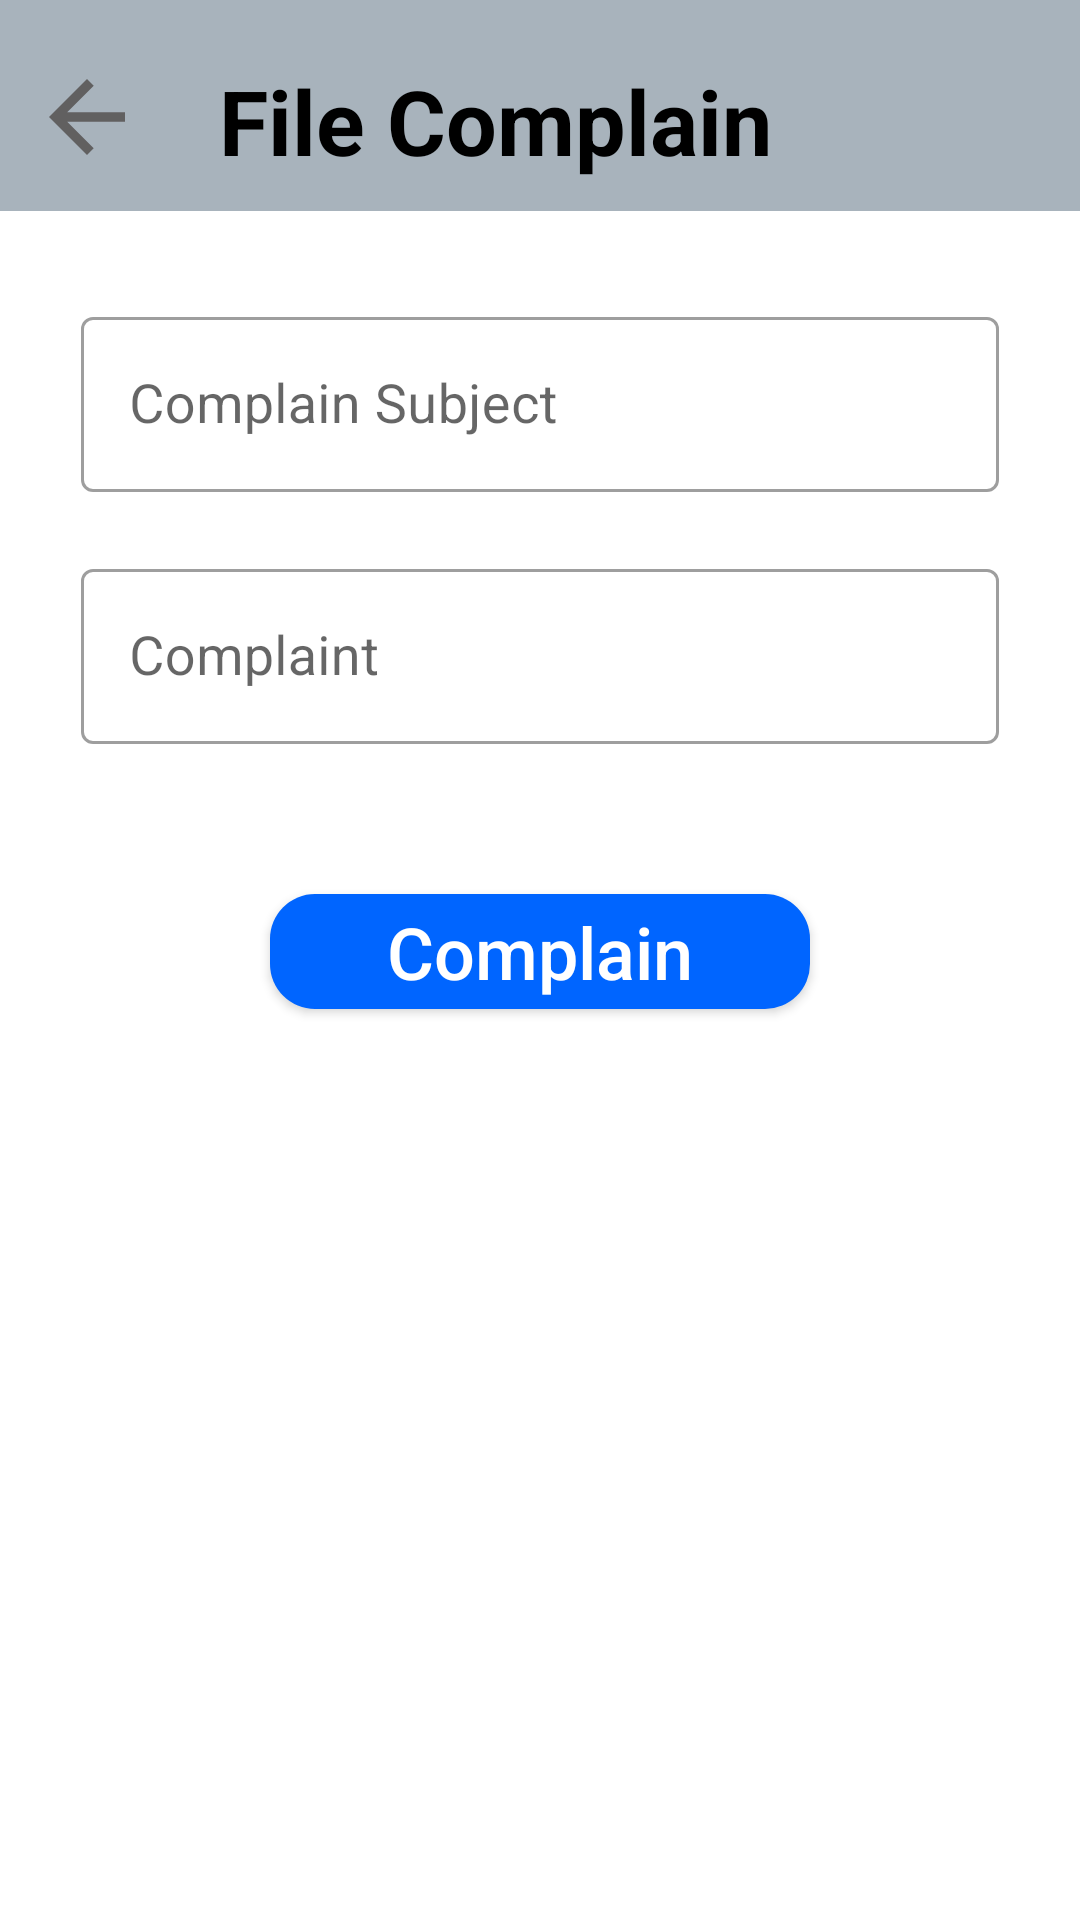

Where to tap for icons on this 1080x1920 app screen, as (x=x, y=y):
arrow back: (x=87, y=117)
